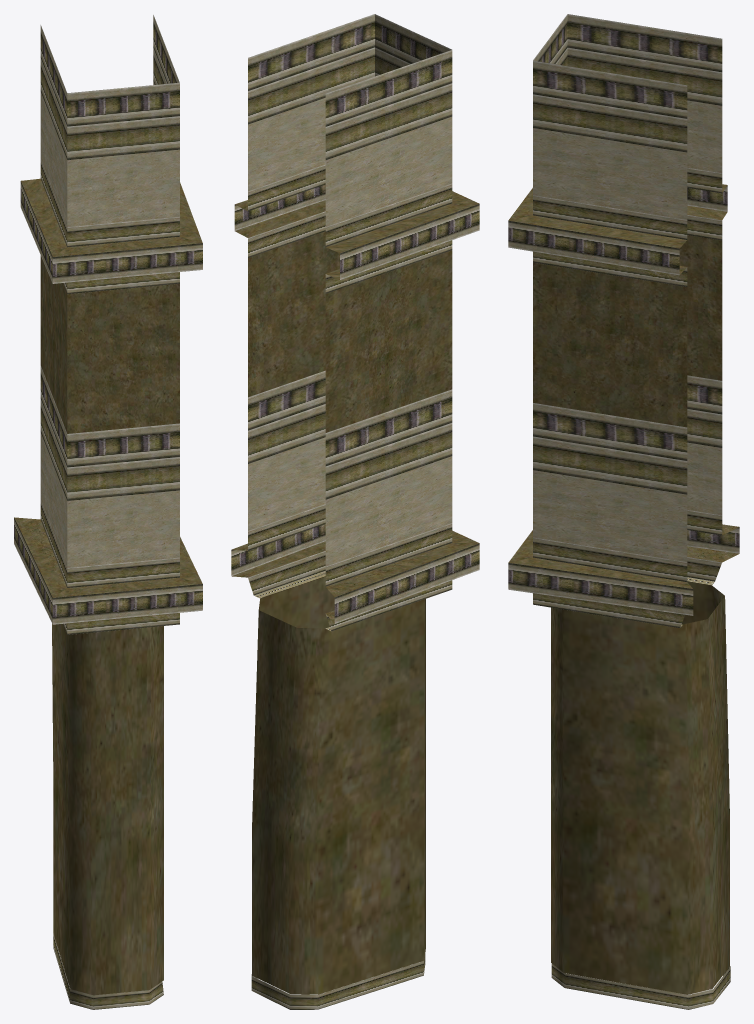
Rendered from CH09_SMAUG_PLAYSURFACE_LAIR64.fbx.
The picture shows the model from 3 angles, left to right: view 1: azimuth 30°, elevation 25°; view 2: azimuth 150°, elevation 25°; view 3: azimuth 270°, elevation 25°; orthographic projection.
Parts seen in each view (by area): view 1: CH09_SMAUG_PLAYSURFACE_LAIR64; view 2: CH09_SMAUG_PLAYSURFACE_LAIR64; view 3: CH09_SMAUG_PLAYSURFACE_LAIR64.
Boxes of the visible parts, x1=… form: CH09_SMAUG_PLAYSURFACE_LAIR64: x1=14, y1=15, x2=202, y2=1009; CH09_SMAUG_PLAYSURFACE_LAIR64: x1=231, y1=14, x2=479, y2=1009; CH09_SMAUG_PLAYSURFACE_LAIR64: x1=508, y1=14, x2=739, y2=1009.
Size of the model in its own units: 39981 by 192145 by 43426.
6 materials, 6 textured.
